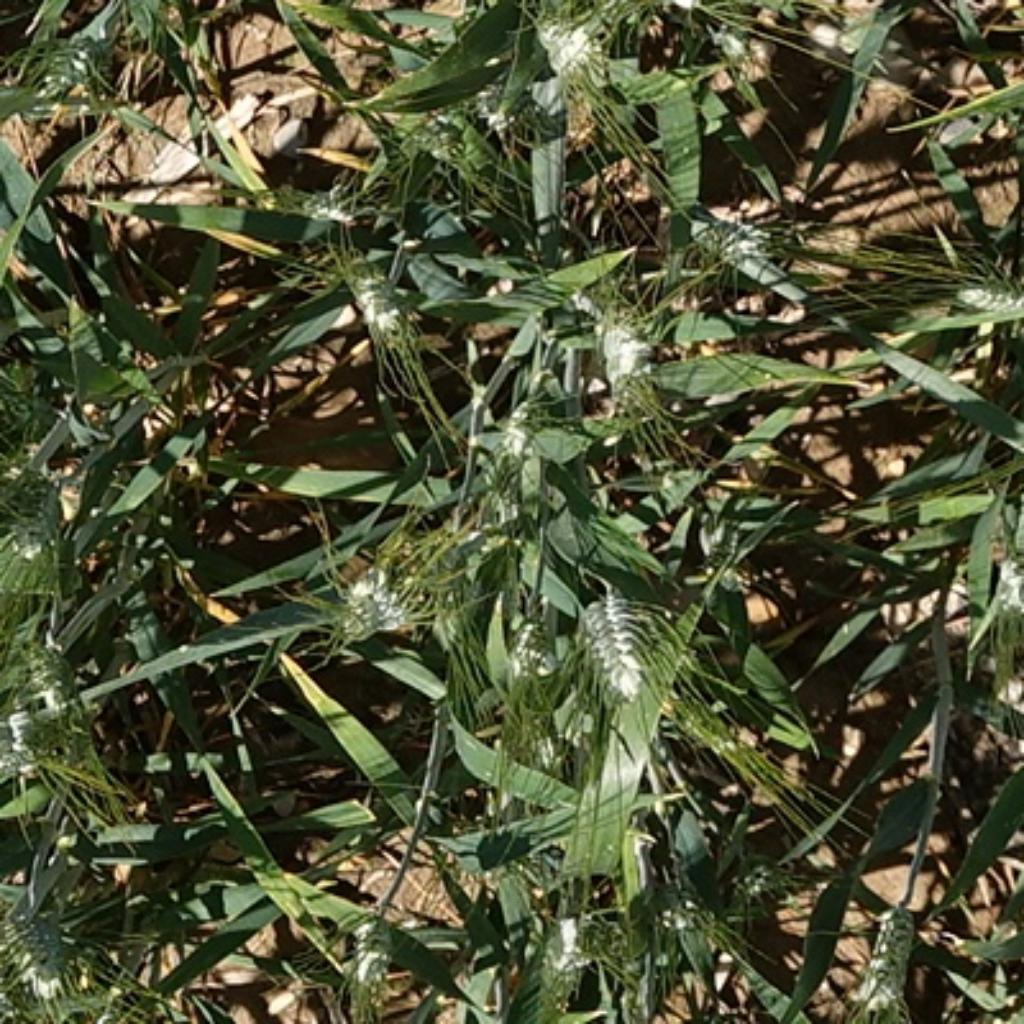0-0: (2, 901, 140, 1024), (463, 373, 563, 527), (642, 872, 775, 980), (499, 883, 606, 1006), (552, 271, 660, 391), (317, 542, 427, 650), (672, 194, 795, 289), (837, 890, 929, 1013), (570, 576, 660, 701), (378, 84, 496, 179), (524, 0, 616, 117), (414, 540, 494, 670), (26, 23, 134, 115), (330, 243, 422, 343), (330, 898, 409, 1006), (500, 581, 567, 705), (15, 609, 97, 704), (972, 499, 1024, 632), (2, 701, 76, 783), (260, 178, 362, 227), (0, 502, 58, 576), (952, 267, 1024, 323)
